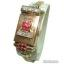watch: (12, 7, 42, 45)
